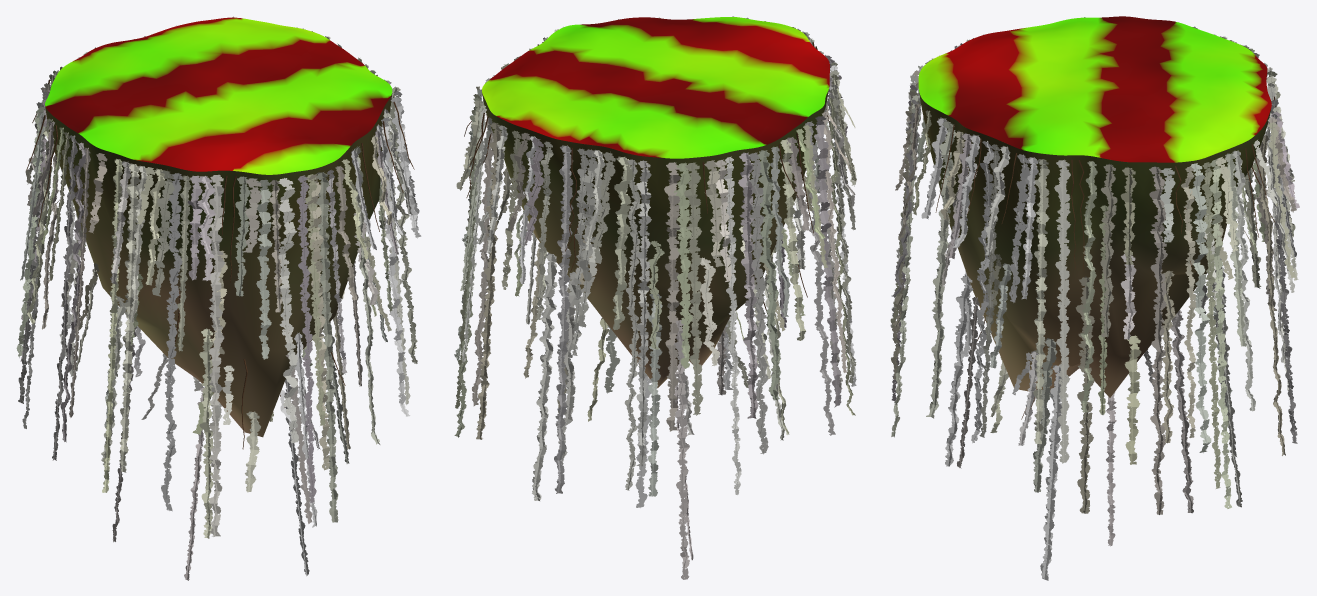
File: SM_H02_Floater04.fbx
3 renders of one model, left to right at view 1: azimuth 30°, elevation 25°; view 2: azimuth 150°, elevation 25°; view 3: azimuth 270°, elevation 25°, orthographic. The views are drawn at different scales.
Visible parts, largest first — view 1: SM_H02_Floater04, SM_H02_Floater04_Ivy; view 2: SM_H02_Floater04_Ivy, SM_H02_Floater04; view 3: SM_H02_Floater04, SM_H02_Floater04_Ivy.
Boxes of the visible parts, bbox=[...] form: SM_H02_Floater04: bbox=[45, 17, 392, 437]; SM_H02_Floater04_Ivy: bbox=[16, 16, 421, 580]; SM_H02_Floater04_Ivy: bbox=[454, 16, 856, 579]; SM_H02_Floater04: bbox=[482, 17, 829, 388]; SM_H02_Floater04: bbox=[918, 16, 1271, 397]; SM_H02_Floater04_Ivy: bbox=[890, 17, 1299, 580].
Size of the model in its own units: 30.77 by 41.45 by 32.3.
